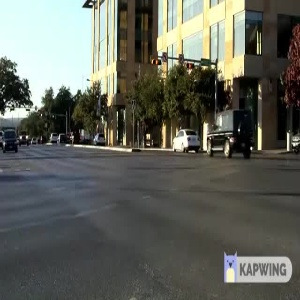car: (165, 122, 204, 157)
suv: (200, 109, 259, 159)
